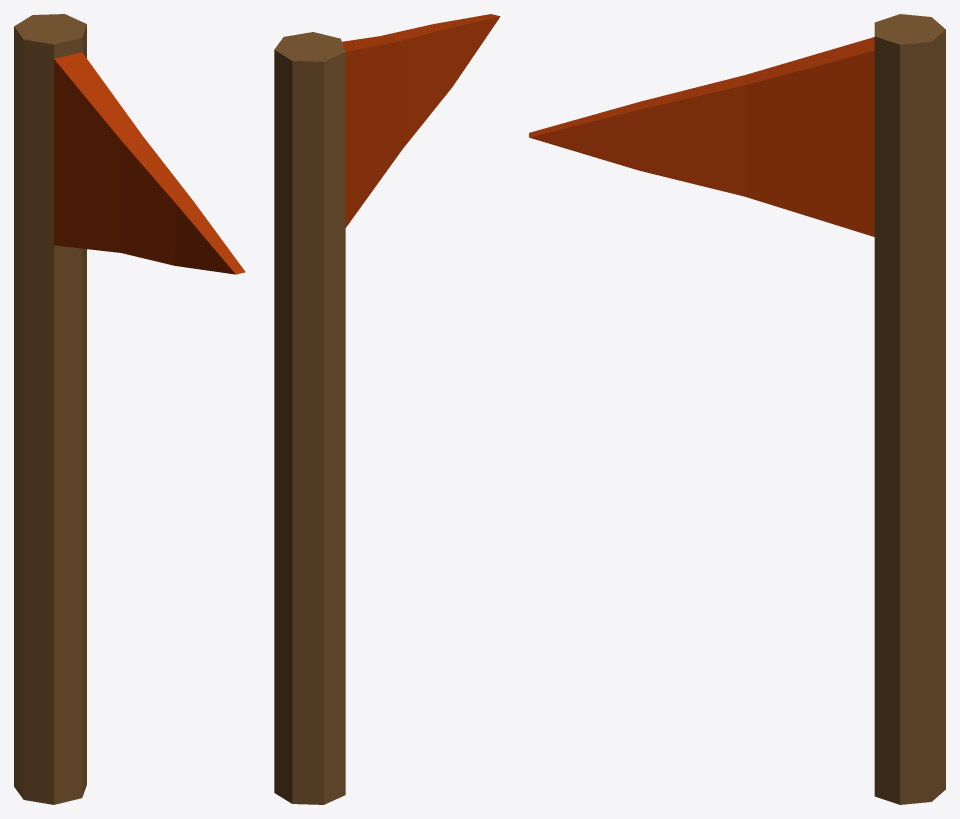
The model's file is flagPoleRed.fbx.
The picture shows the model from 3 angles, left to right: view 1: azimuth 30°, elevation 25°; view 2: azimuth 150°, elevation 25°; view 3: azimuth 270°, elevation 25°; orthographic projection. The views are drawn at different scales.
Visible parts, largest first — view 1: Cylinder; view 2: Cylinder; view 3: Cylinder.
Part boxes in pixels (x1,y1,x2,y2): Cylinder: [14, 14, 245, 804]; Cylinder: [274, 14, 500, 804]; Cylinder: [529, 14, 945, 804].
Size of the model in its own units: 29.25 by 336 by 167.
